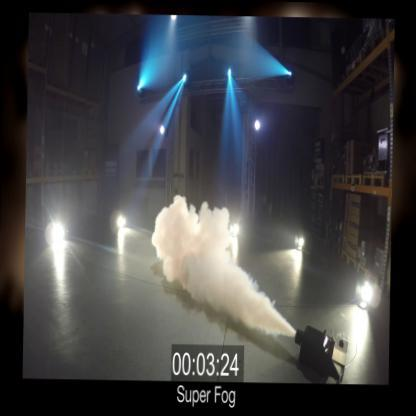smoke: (149, 193, 287, 337)
